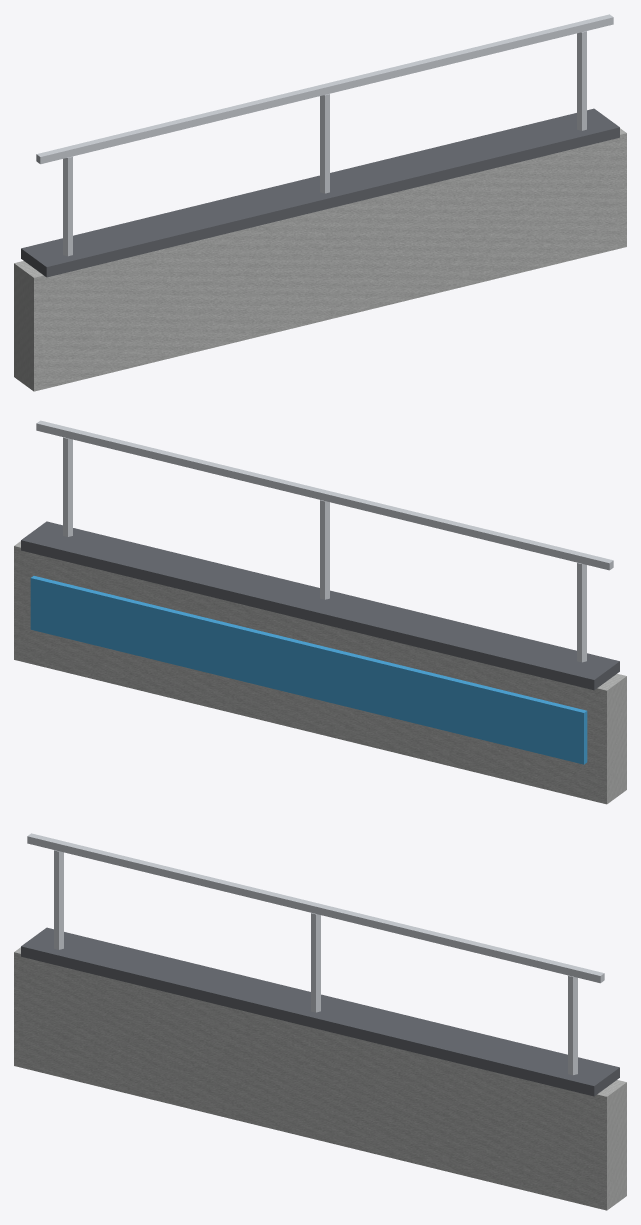
The model's file is velodrome-and-track-cycling-vip-box-front-df7dd797.glb.
3 renders of one model, top to bottom at view 1: azimuth 30°, elevation 25°; view 2: azimuth 150°, elevation 25°; view 3: azimuth 330°, elevation 25°, orthographic.
Visible parts, largest first — view 1: vip-box-front-apron, vip-box-front-charcoal, vip-box-front-steel; view 2: vip-box-front-apron, vip-box-front-azure, vip-box-front-charcoal, vip-box-front-steel; view 3: vip-box-front-apron, vip-box-front-charcoal, vip-box-front-steel.
Part boxes in pixels (<box>): vip-box-front-apron: <box>14,128,626,391</box>; vip-box-front-charcoal: <box>21,108,619,277</box>; vip-box-front-steel: <box>36,14,613,256</box>; vip-box-front-apron: <box>14,541,626,804</box>; vip-box-front-azure: <box>30,576,587,764</box>; vip-box-front-charcoal: <box>21,521,619,690</box>; vip-box-front-steel: <box>36,420,613,662</box>; vip-box-front-apron: <box>14,947,626,1210</box>; vip-box-front-charcoal: <box>21,927,619,1096</box>; vip-box-front-steel: <box>27,833,604,1075</box>.
Bounding box in the file's own units: 6 × 2.22 × 0.4552.
Materials: 4 (1 with a texture image).
